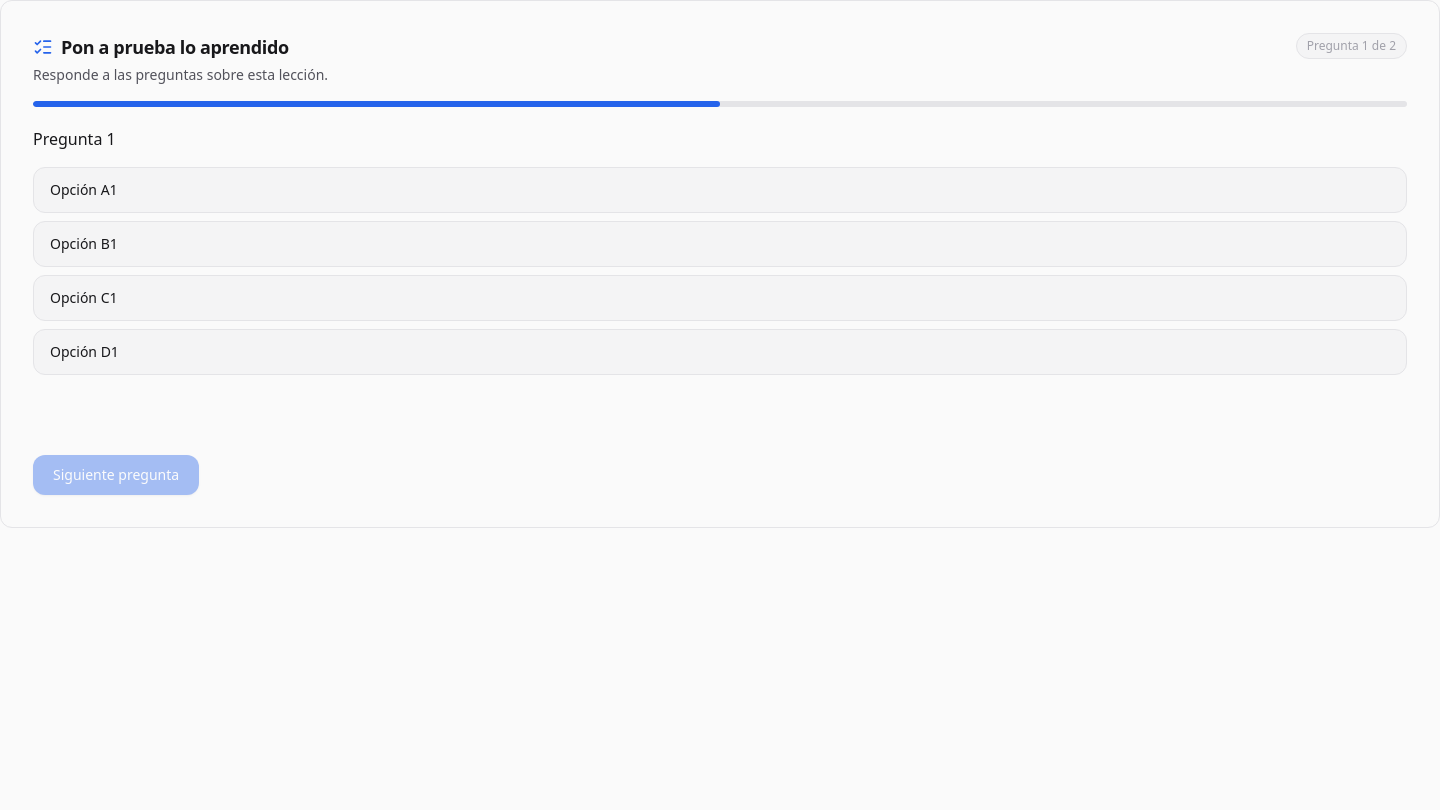
Test: LessonQuiz › muestra retroalimentación al responder y avanza
Click the button "Opción A1". click: (84, 190)
box: [33,167,1407,213]
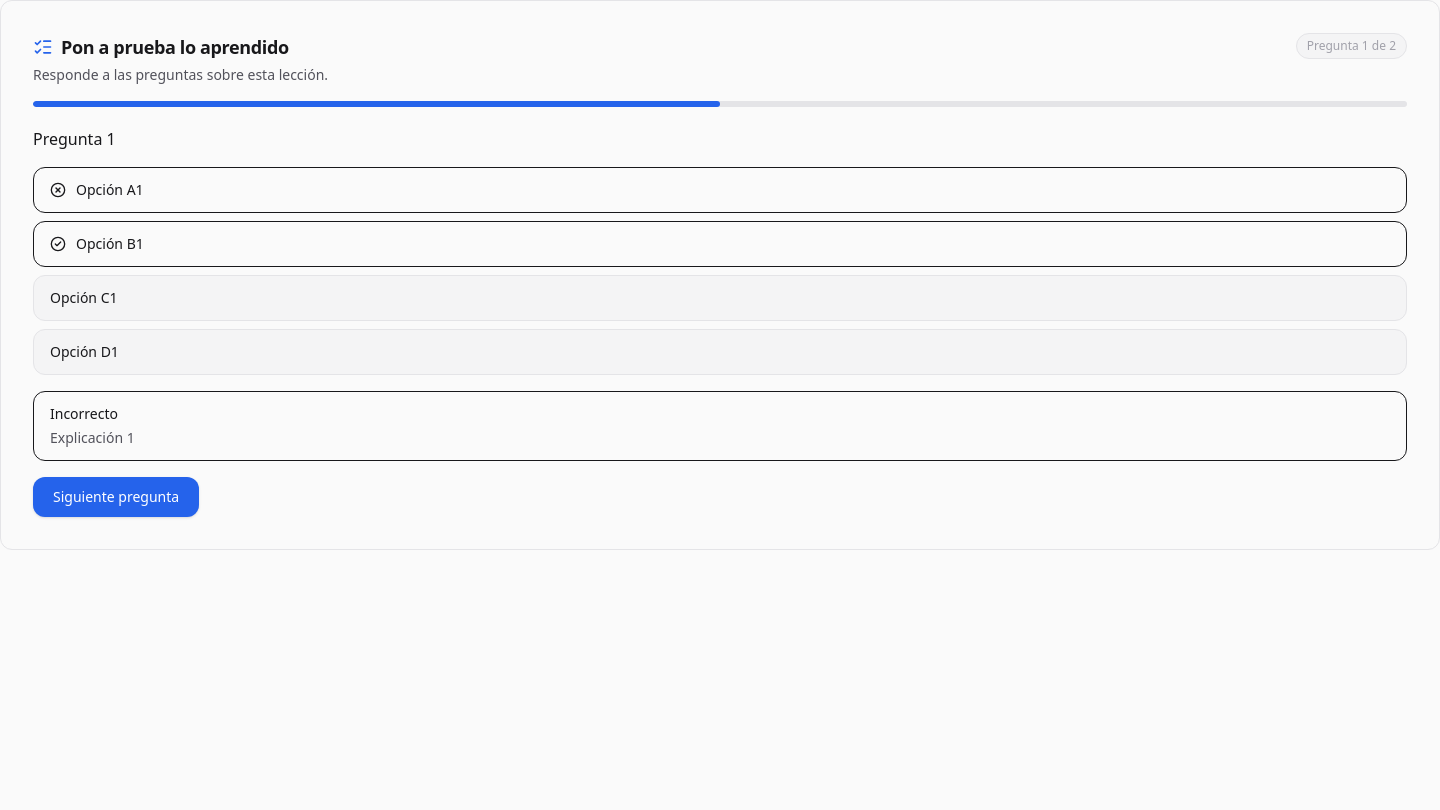
Expected: the text "Incorrecto" is shown, [50,404,118,423]
Expected: the text "Explicación 1" is shown, [50,428,135,447]
Click the button "Siguiente pregunta". click: (116, 497)
box: [33,477,199,517]
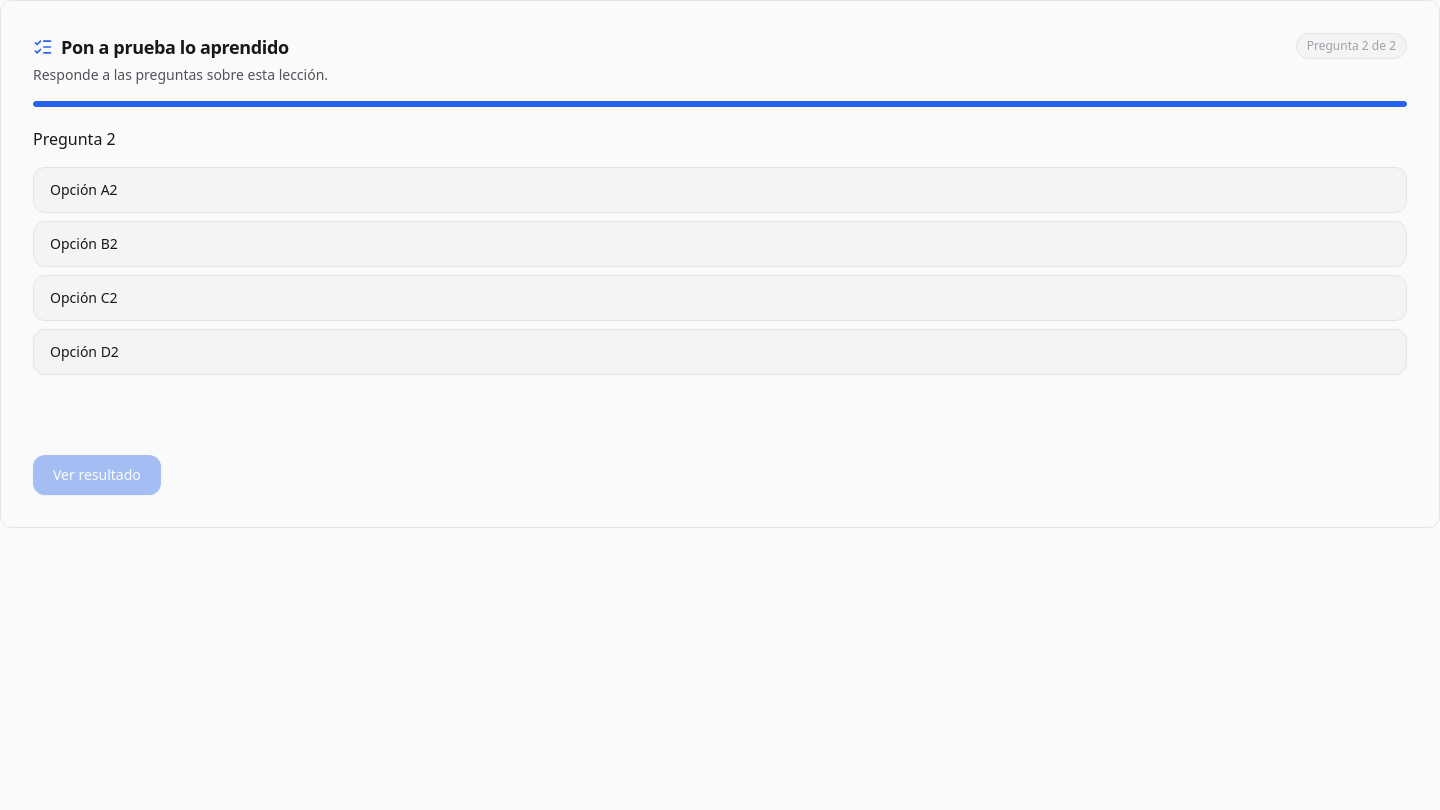
Expected: the text "Pregunta 2 de 2" is shown, [1296,33,1407,59]
